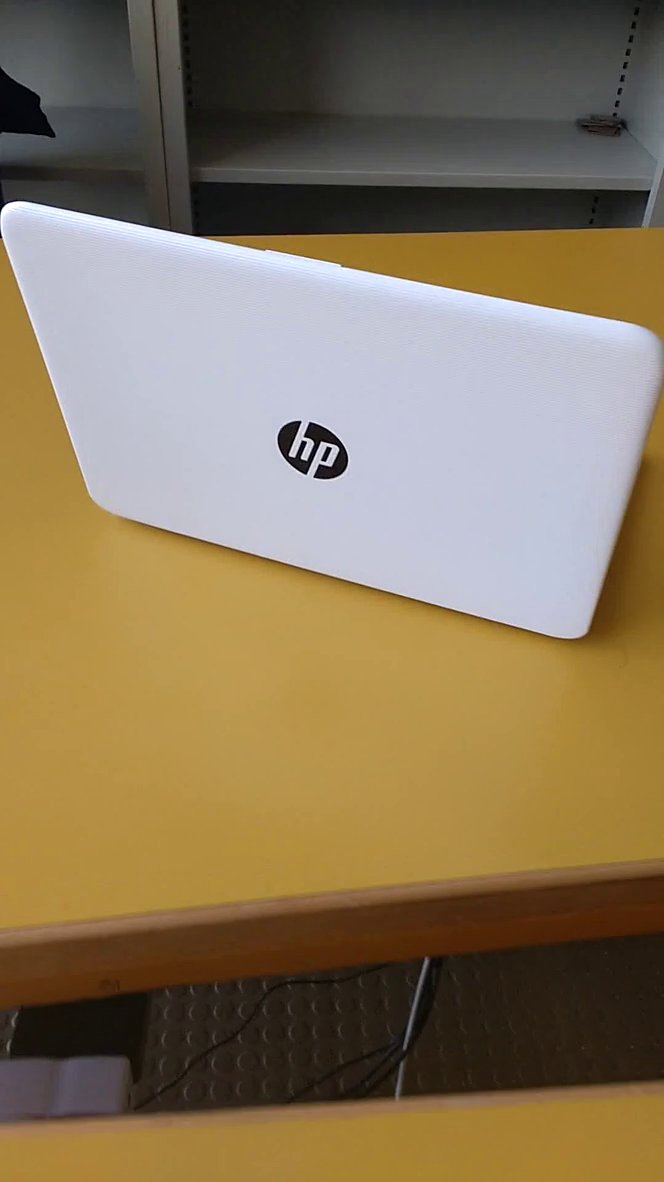laptop: (2, 163, 664, 649)
